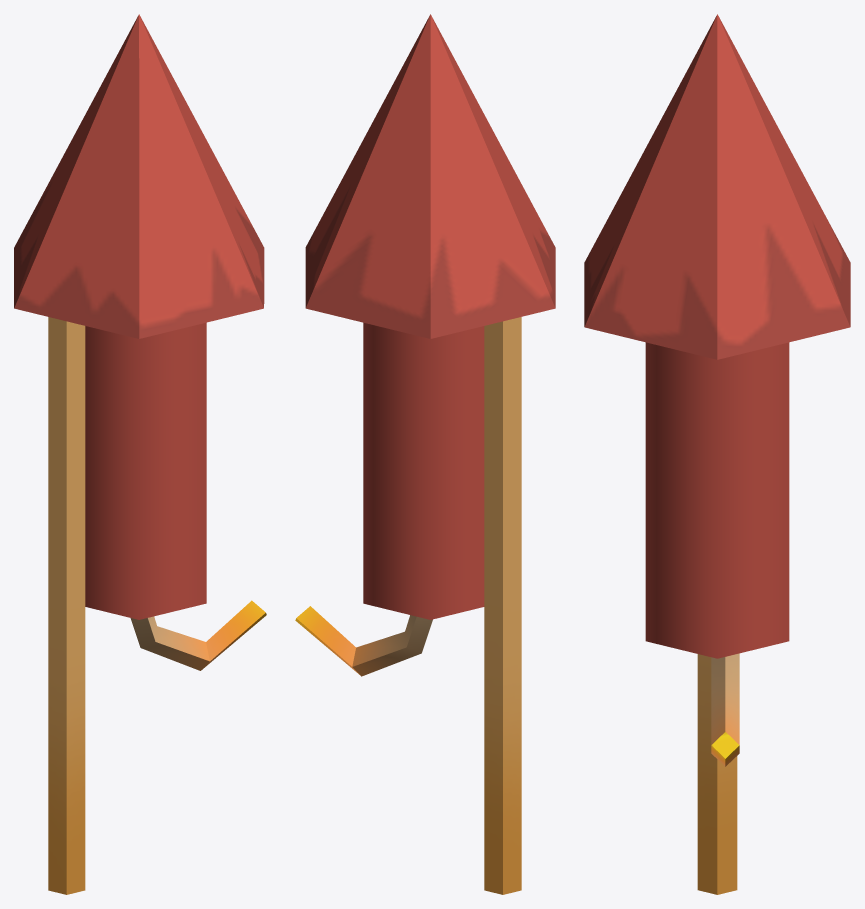
The model's file is Fire.FBX.
3 views of the same model, side by side, from view 1: azimuth 30°, elevation 25°; view 2: azimuth 150°, elevation 25°; view 3: azimuth 270°, elevation 25° (orthographic). The views are drawn at different scales.
Parts seen in each view (by area): view 1: Fire; view 2: Fire; view 3: Fire.
Part boxes in pixels (left/top/right/bottom): Fire: left=14, top=14, right=266, bottom=894; Fire: left=295, top=14, right=555, bottom=894; Fire: left=584, top=14, right=850, bottom=894.
Bounding box in the file's own units: 0.335 × 1.07 × 0.2828.
